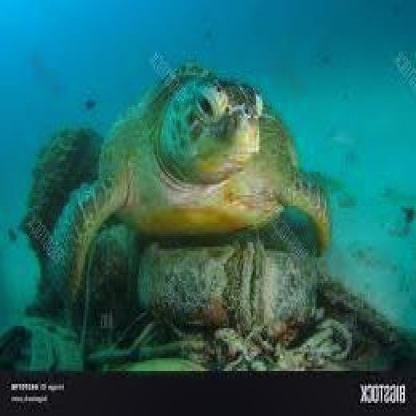tire: (115, 247, 315, 345)
